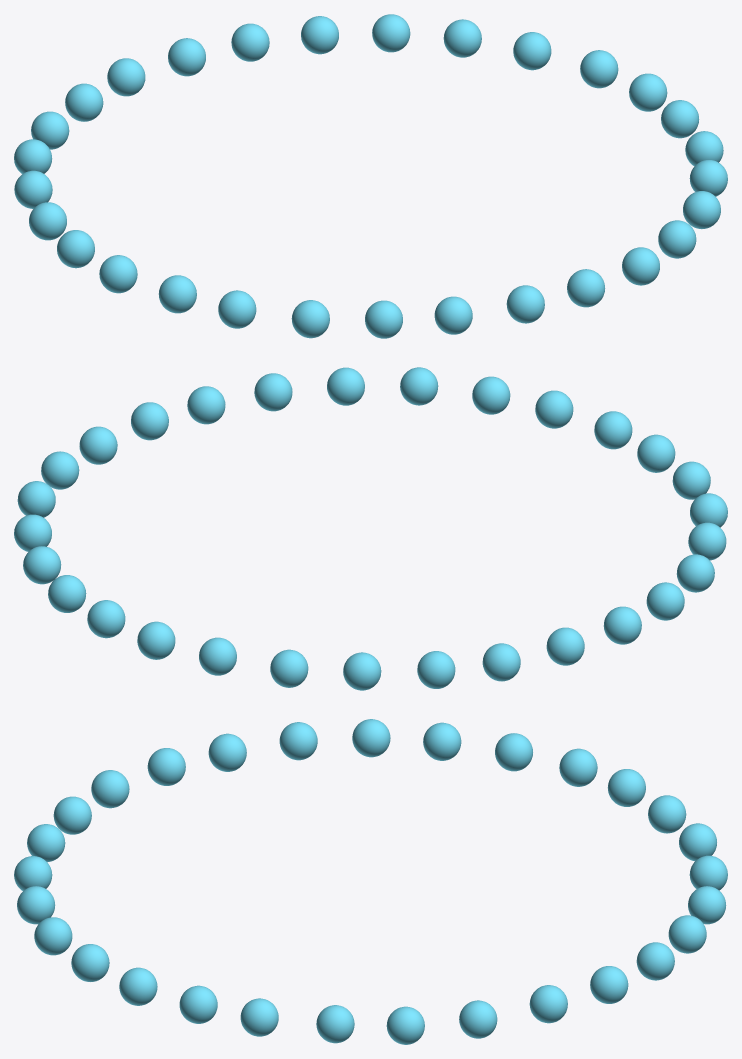
The picture shows the model from 3 angles, top to bottom: view 1: azimuth 30°, elevation 25°; view 2: azimuth 150°, elevation 25°; view 3: azimuth 270°, elevation 25°; orthographic projection.
Visible parts, largest first — view 1: Sphere049; view 2: Sphere049; view 3: Sphere049.
Boxes of the visible parts, x1=… form: Sphere049: x1=14, y1=14, x2=727, y2=338; Sphere049: x1=14, y1=367, x2=727, y2=690; Sphere049: x1=14, y1=719, x2=727, y2=1044.
Size of the model in its own units: 154 by 8.22 by 153.
